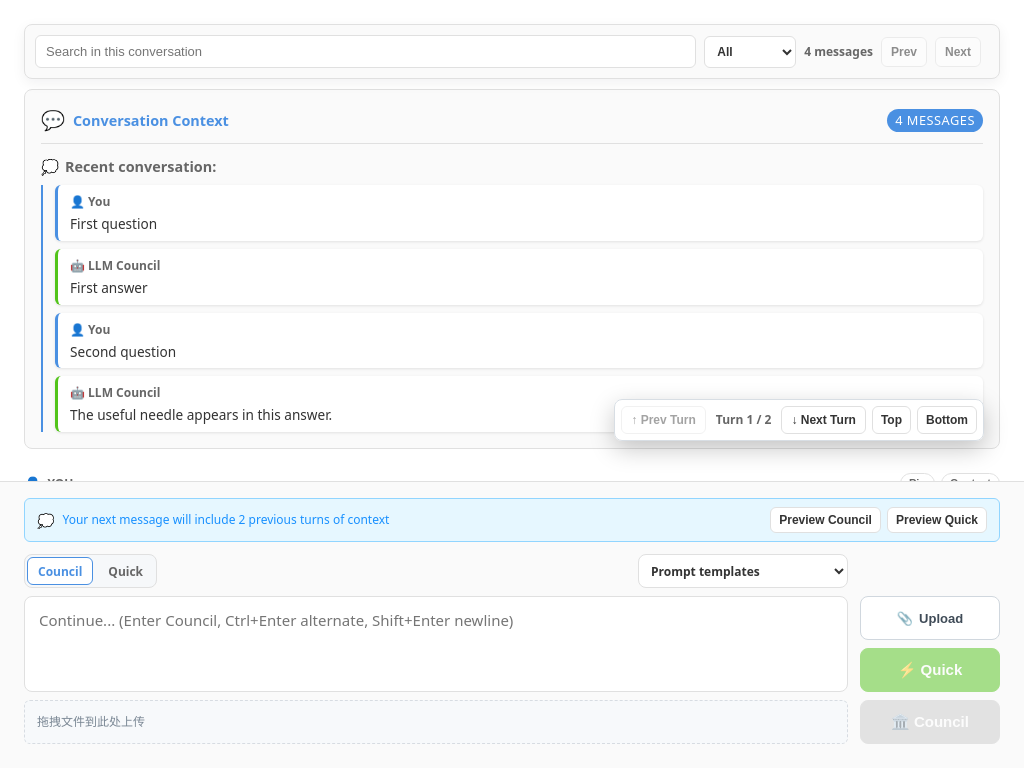
Test: ChatInterface conversation efficiency controls › searches within the current conversation and scrolls to the active message hit
In the search field labelled "Search in this conversation": (366, 52) [35, 35, 696, 68], type "needle"
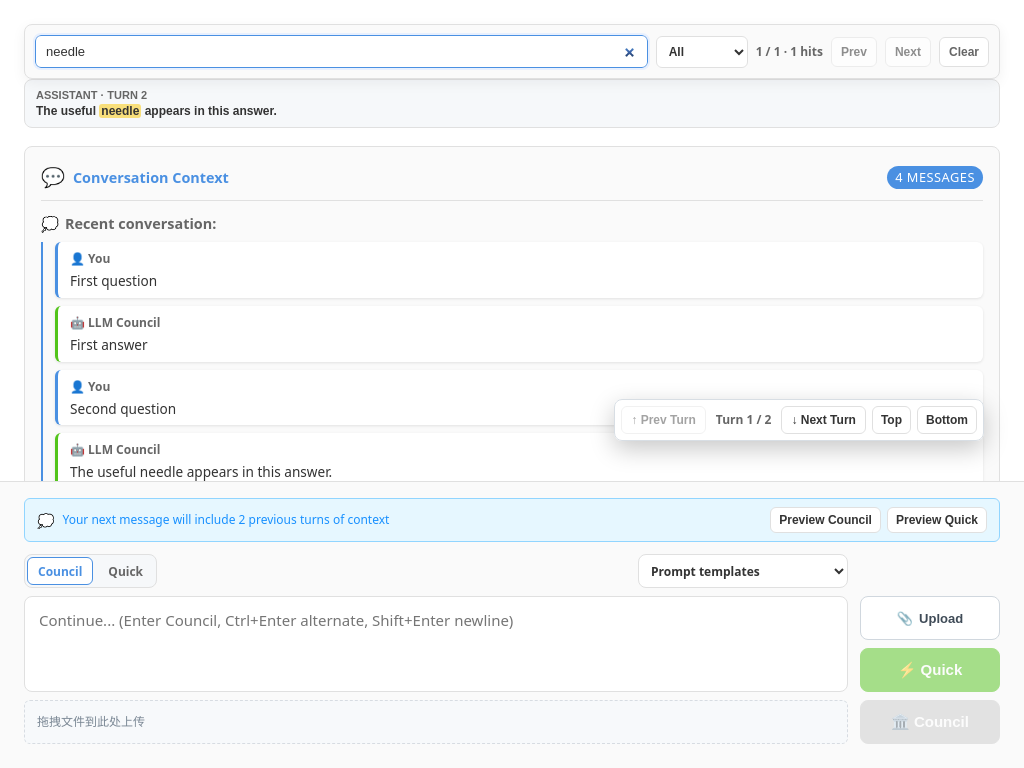
Result: the text "1 / 1 · 1 hits" is shown at [756, 42, 823, 60]
Result: the text "assistant · Turn 2" is shown at [36, 89, 147, 101]
